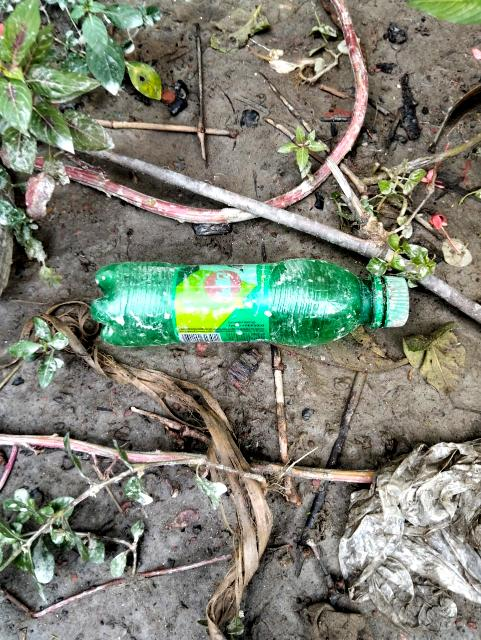bottle: (84, 252, 415, 365)
